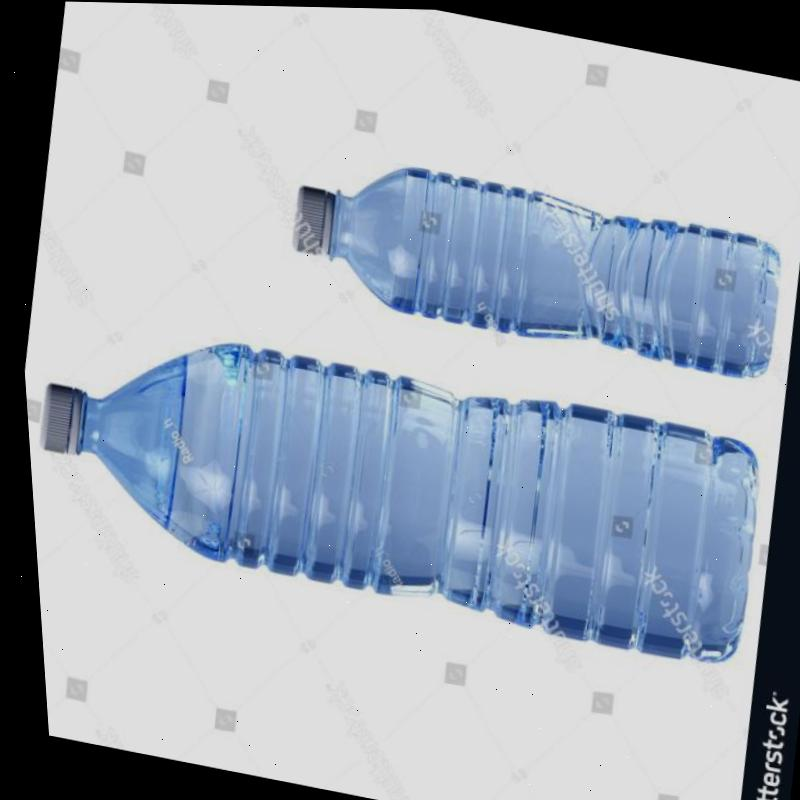botella: (16, 305, 770, 663), (275, 147, 786, 382)
